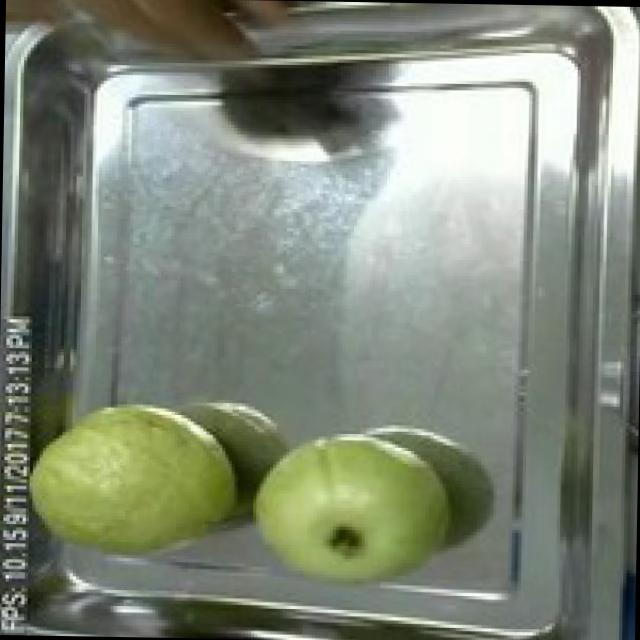Fruit: (235, 414, 462, 610), (12, 385, 245, 571), (4, 0, 278, 92)
